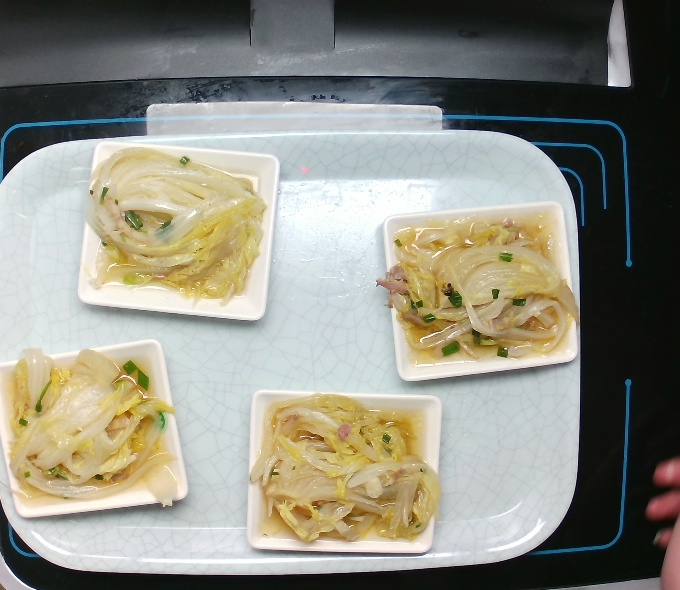wcq-DaBaiCaiRouMou: (79, 143, 271, 304), (374, 215, 580, 365), (2, 343, 183, 513), (247, 390, 442, 544)
